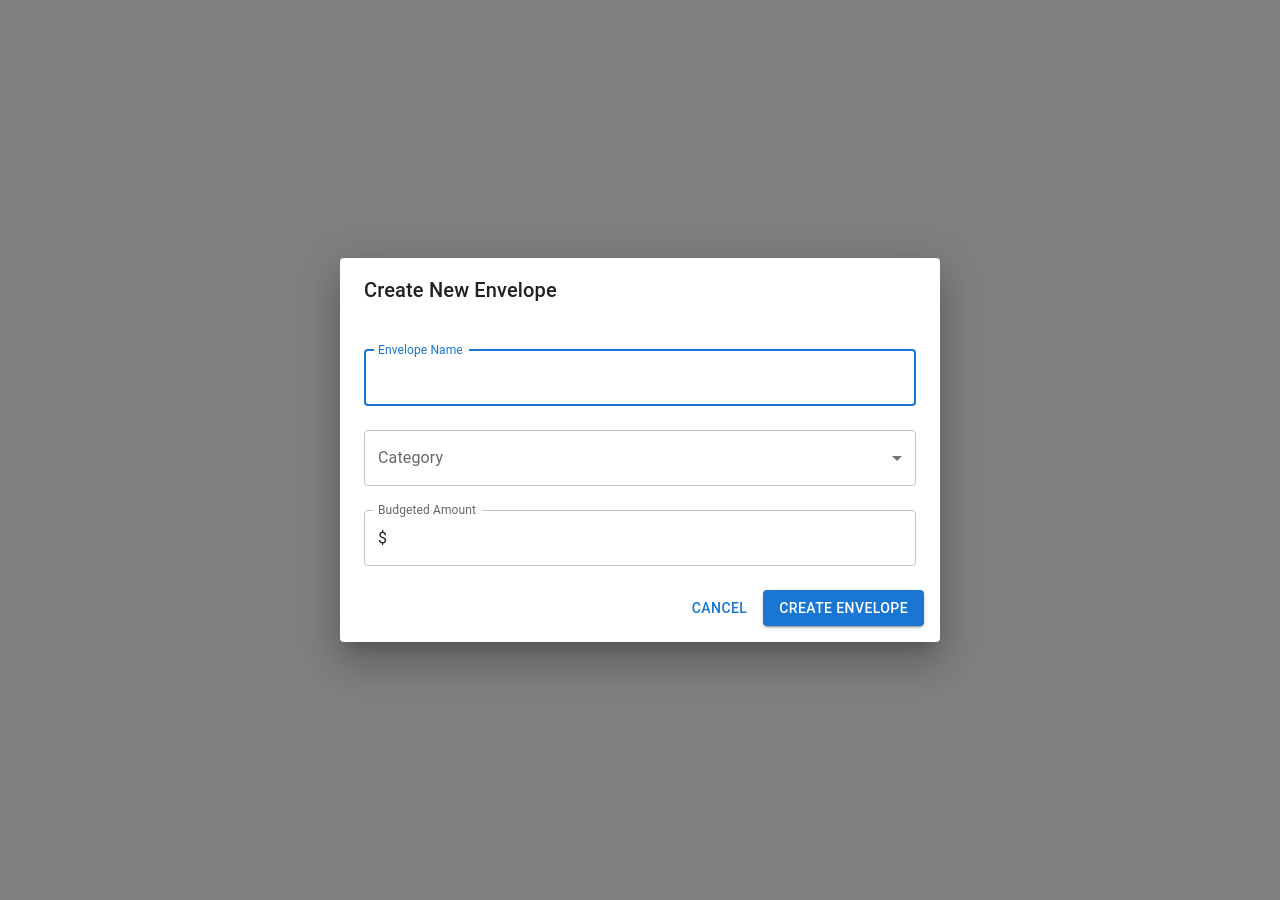
it: EnvelopeForm › shows error when creation fails
In the field labelled "Envelope Name": (640, 378) top-left (364, 350), bottom-right (916, 406), type "Food"
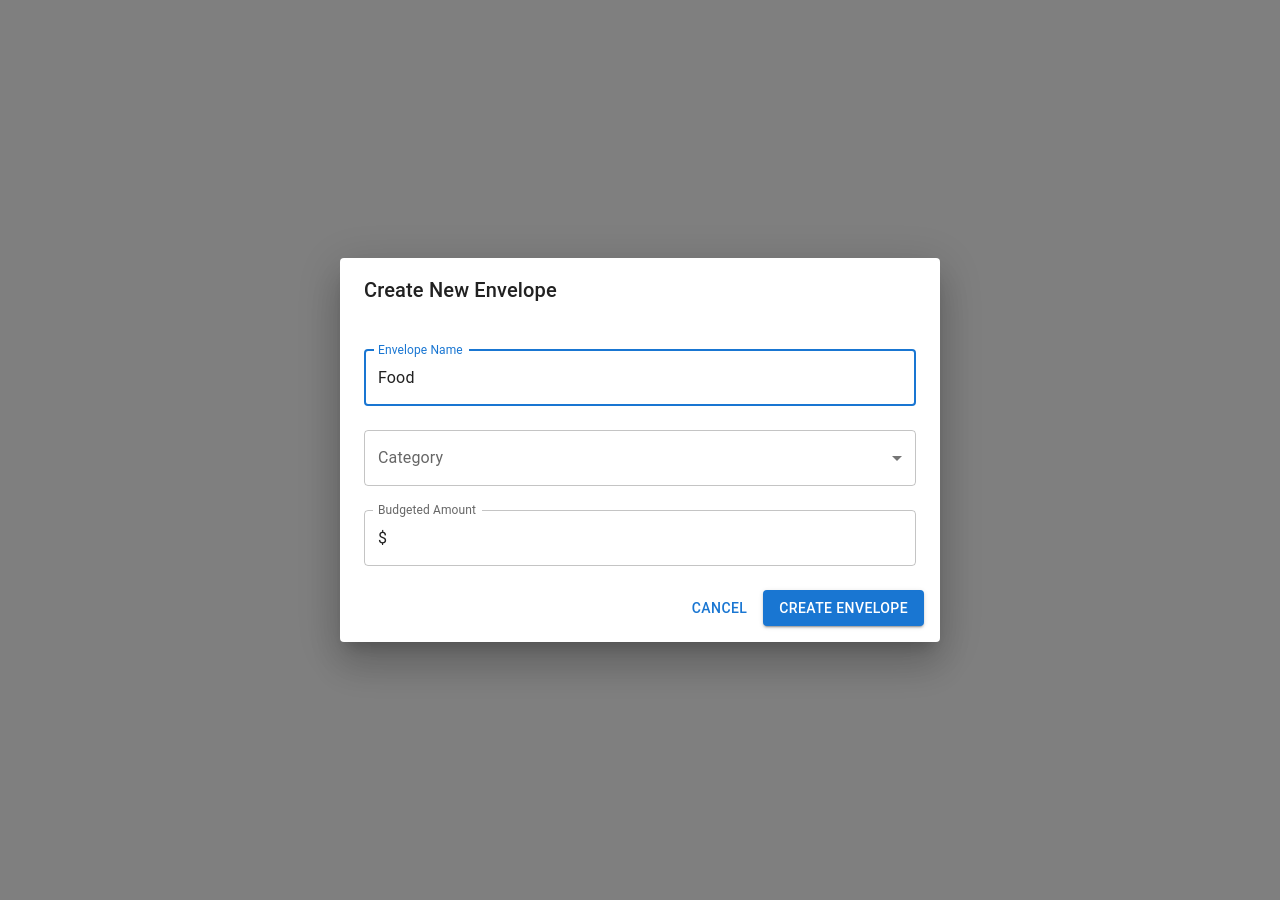
Click the dropdown named "Category": (640, 458) top-left (364, 430), bottom-right (916, 486)
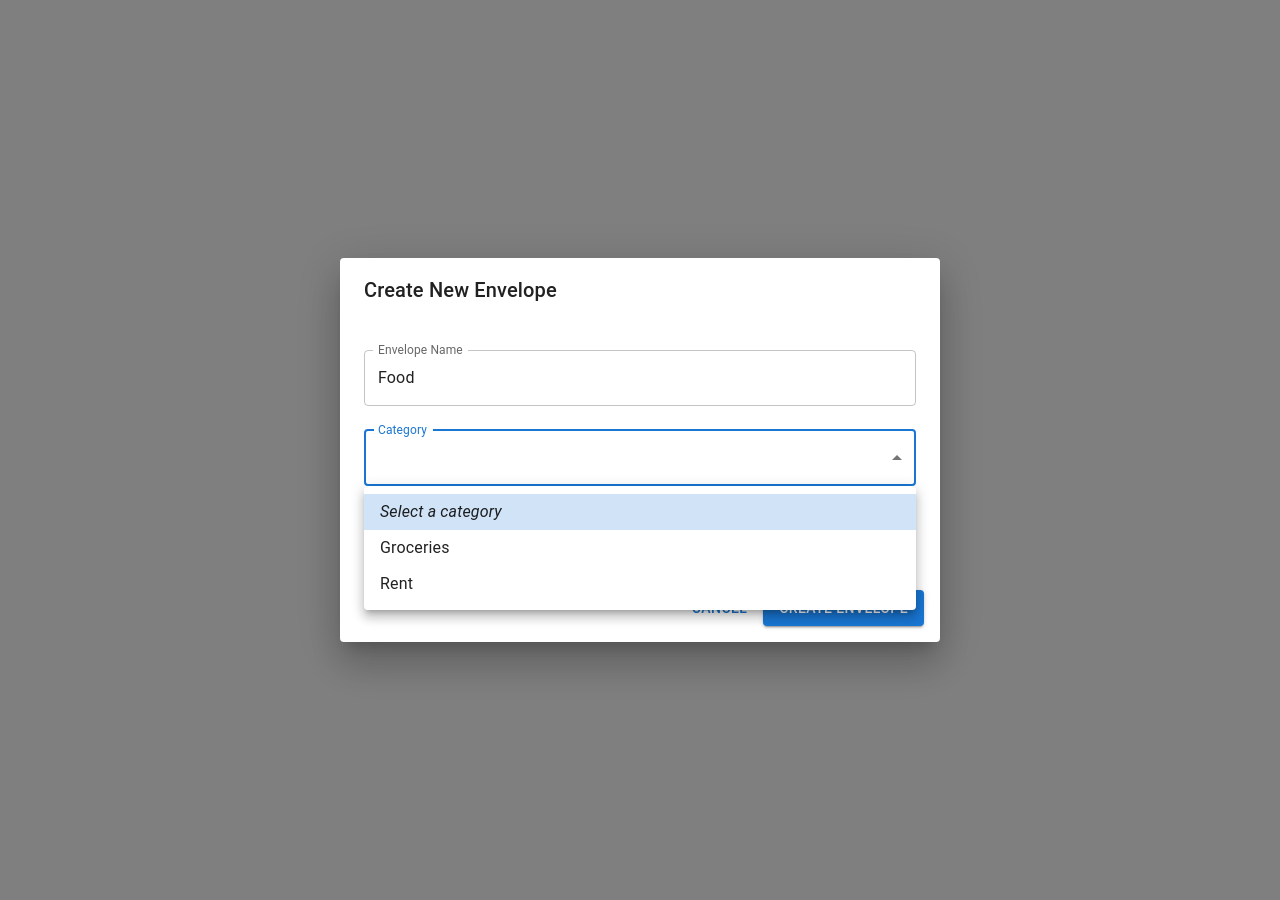
Click the option "Groceries": (415, 548) top-left (380, 538), bottom-right (450, 557)
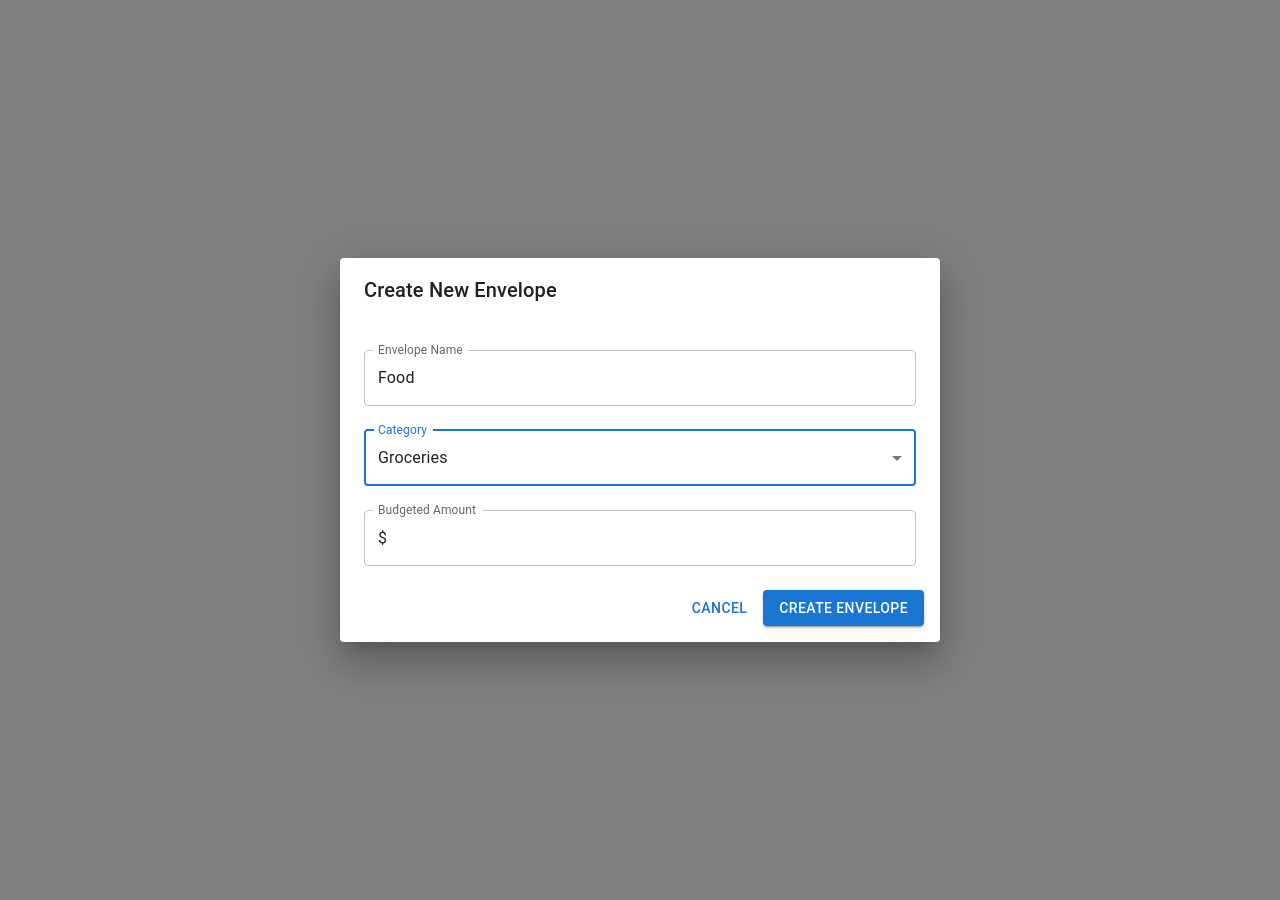
In the number field labelled "Budgeted Amount": (652, 538) top-left (387, 510), bottom-right (916, 566), type "10"
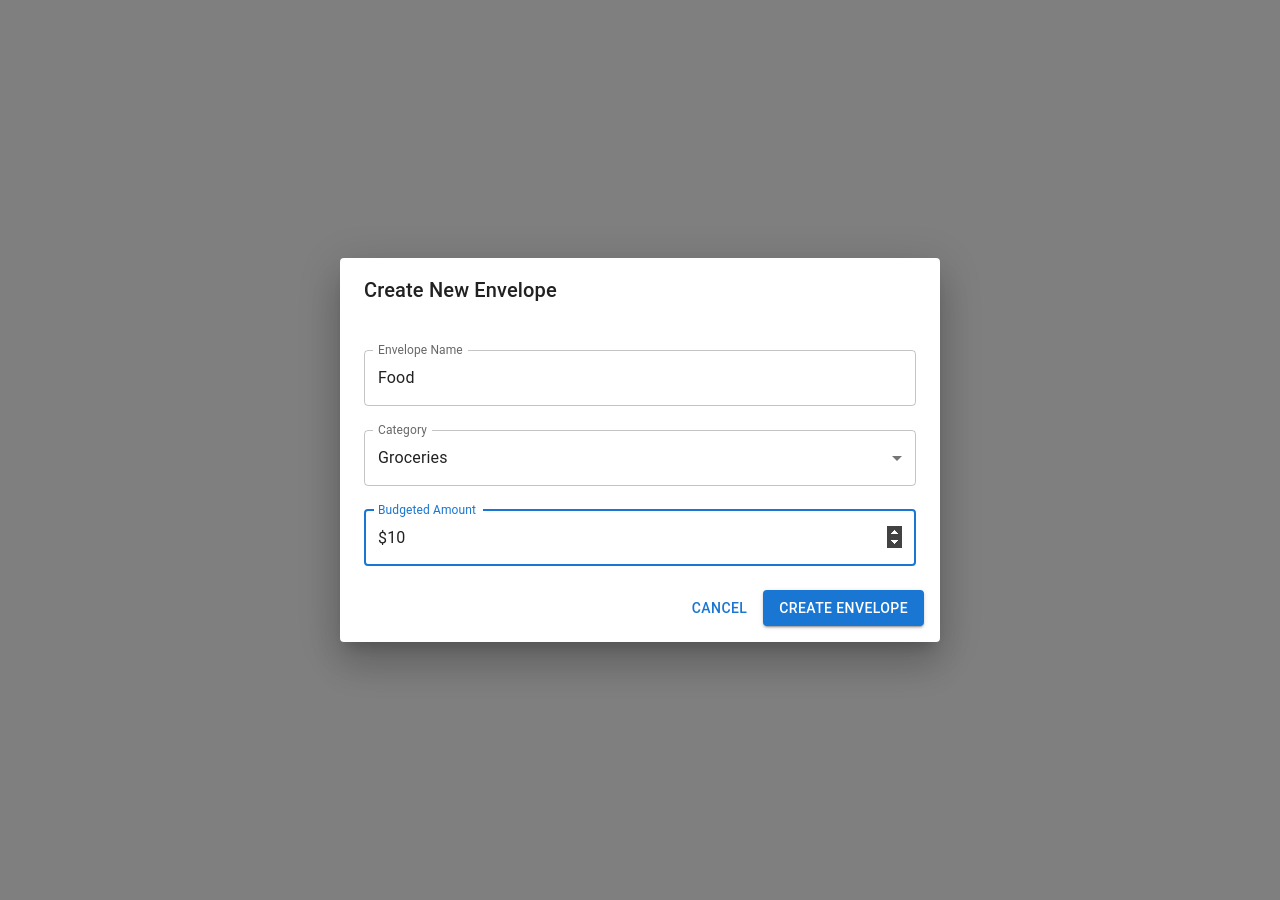
Click the button "Create Envelope": (844, 608) top-left (763, 590), bottom-right (924, 626)
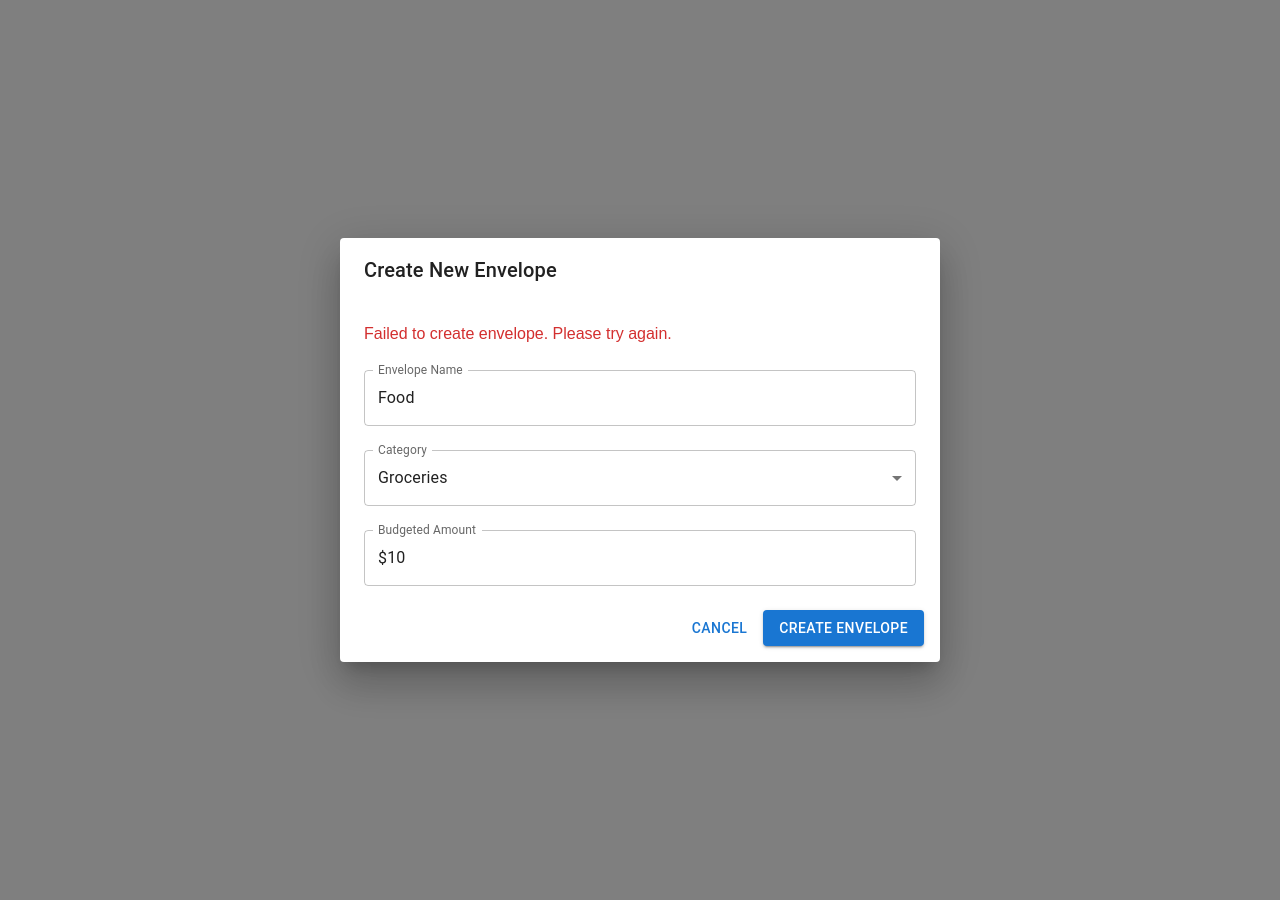
Check: the text "Failed to create envelope. Please try again." is shown, box top-left (364, 325), bottom-right (672, 342)
